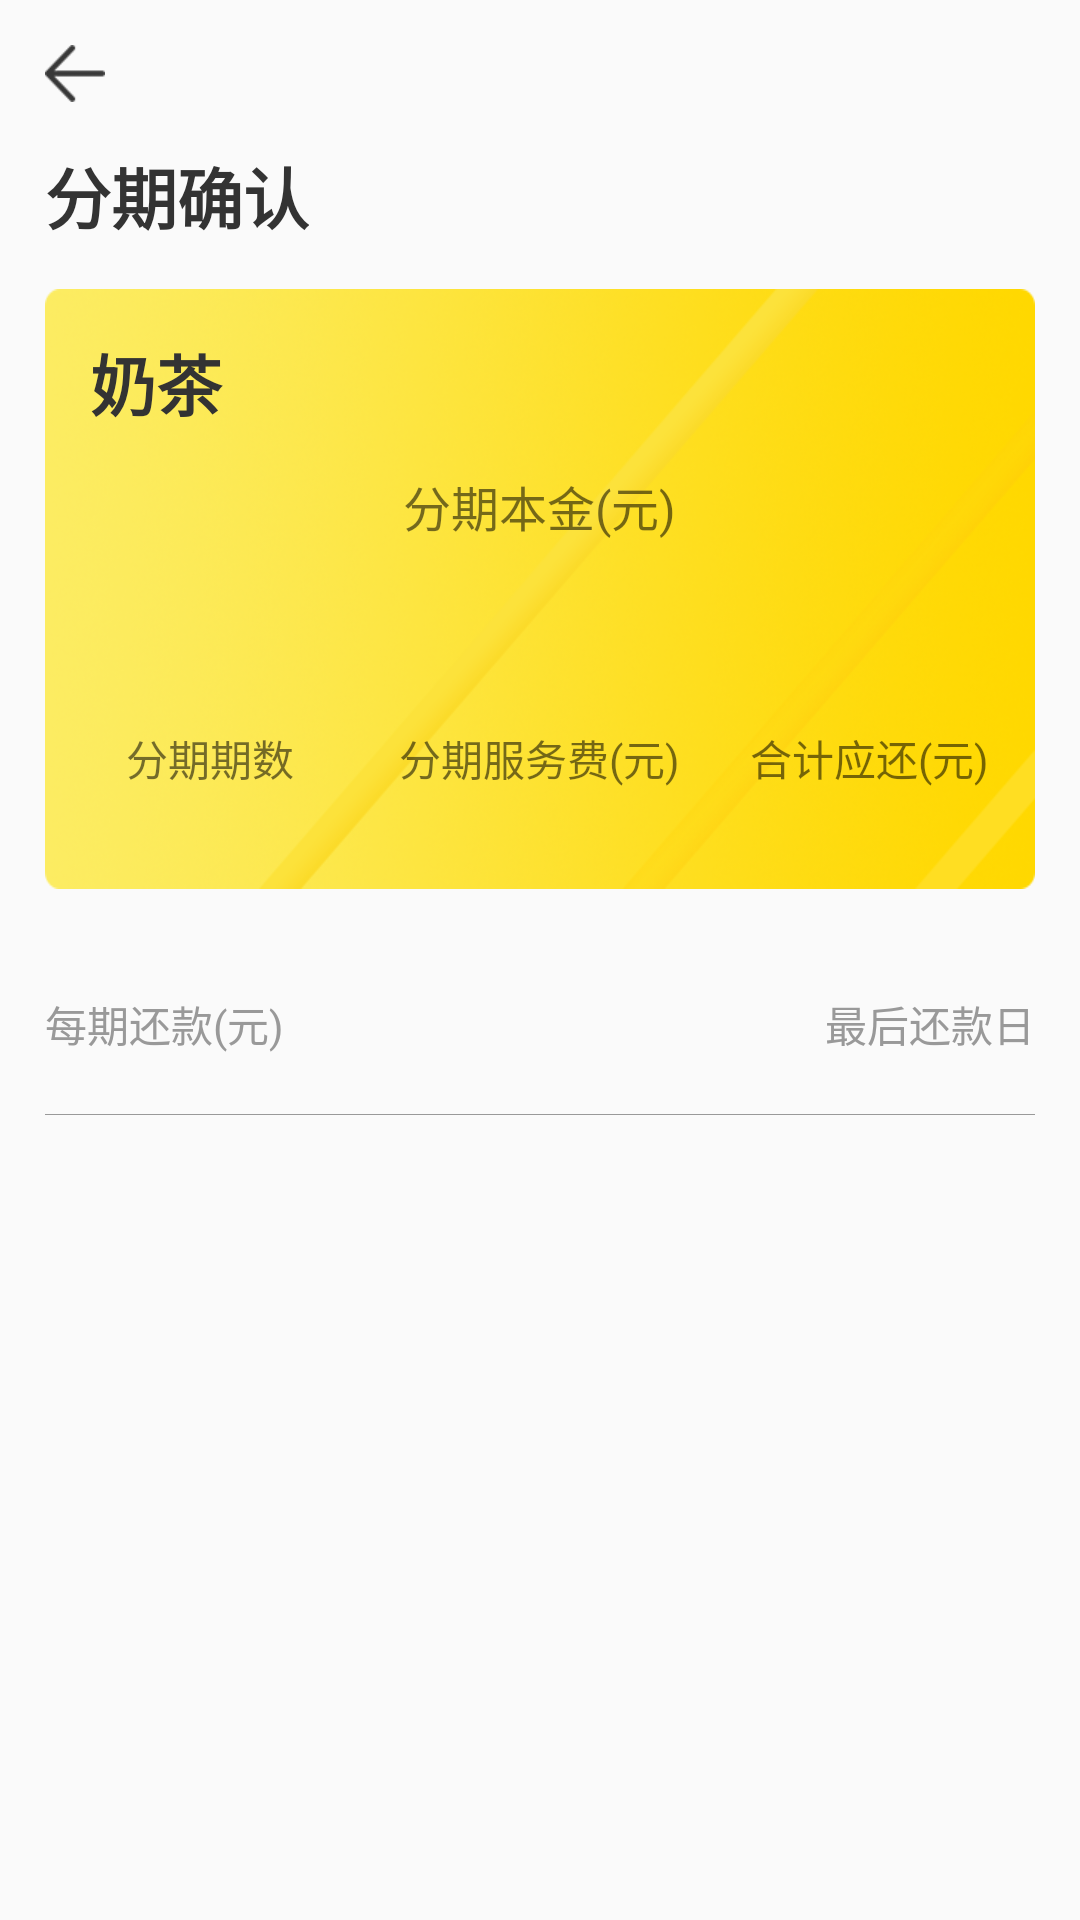

Screen size 1080px x 1920px. Icon name, then its center in pixels as (x=x, y=y):
backimg: (x=75, y=73)
